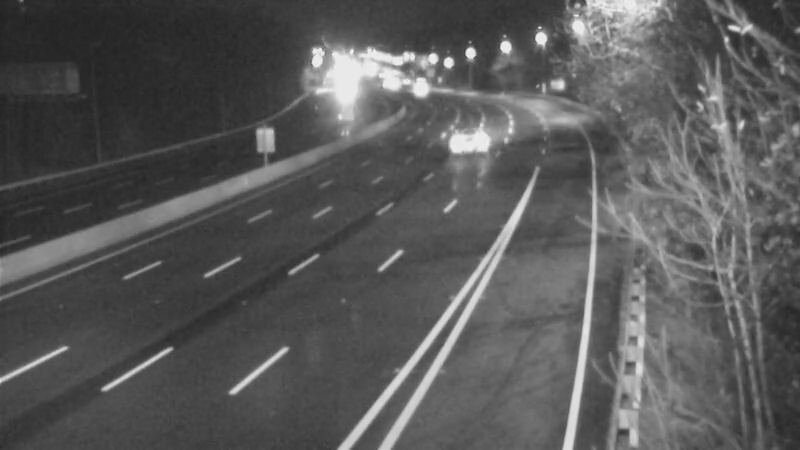vehicle: (395, 64, 445, 114), (444, 111, 494, 161)
